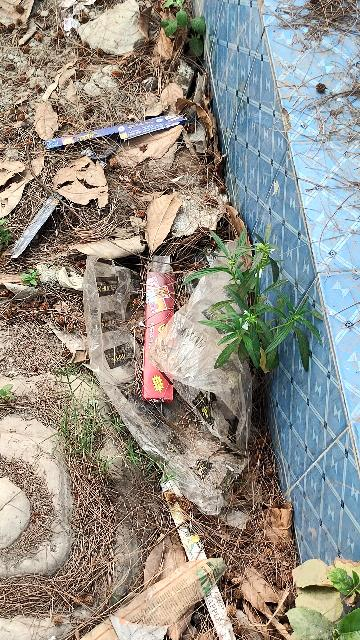polythene: (81, 258, 261, 510)
